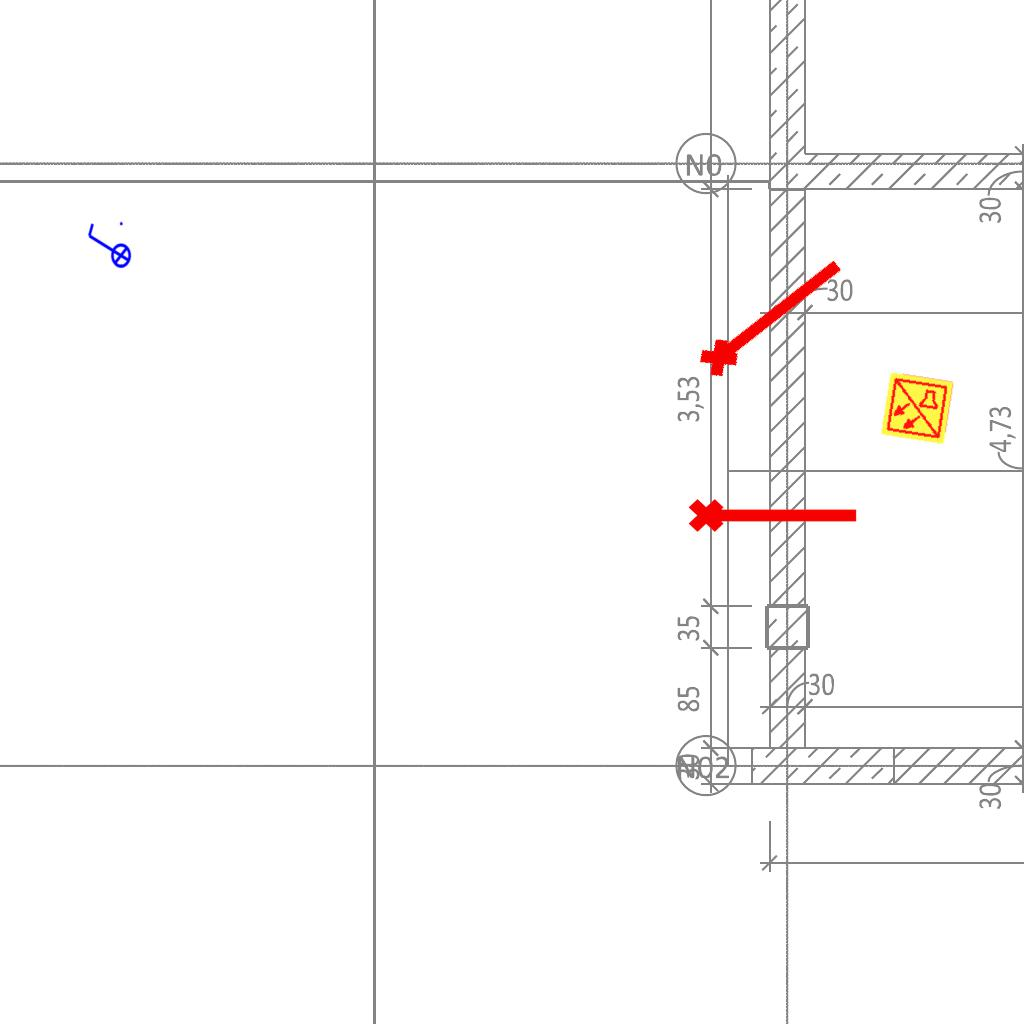ASR_Ansaugoeffnung: (687, 241, 855, 387), (686, 490, 862, 536)
Ausschalter_beleuchtet: (84, 219, 132, 275)
OKW_Multisensormelder_(Kombination_optischer_Rauch-Kahlenmonoxid_Waerme-Melder): (879, 370, 955, 446)
